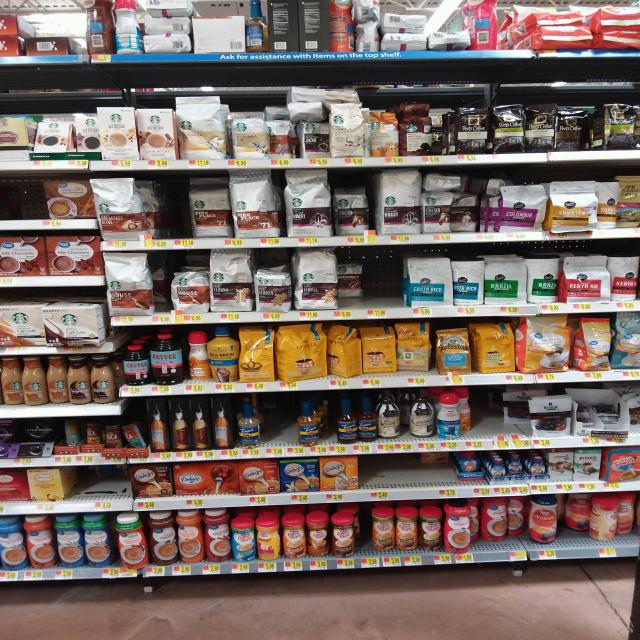empty: (361, 455, 456, 487), (2, 173, 43, 221), (366, 254, 403, 307), (161, 178, 189, 240), (76, 467, 129, 497), (470, 386, 502, 435), (266, 397, 295, 447)
